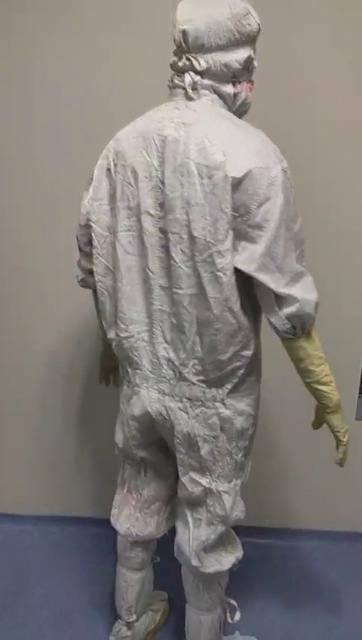boot_secured: (172, 512, 246, 640), (98, 508, 168, 636)
gloves_fitted_securely: (270, 274, 362, 471), (66, 254, 122, 404)
headgear_secured: (141, 0, 273, 132)
